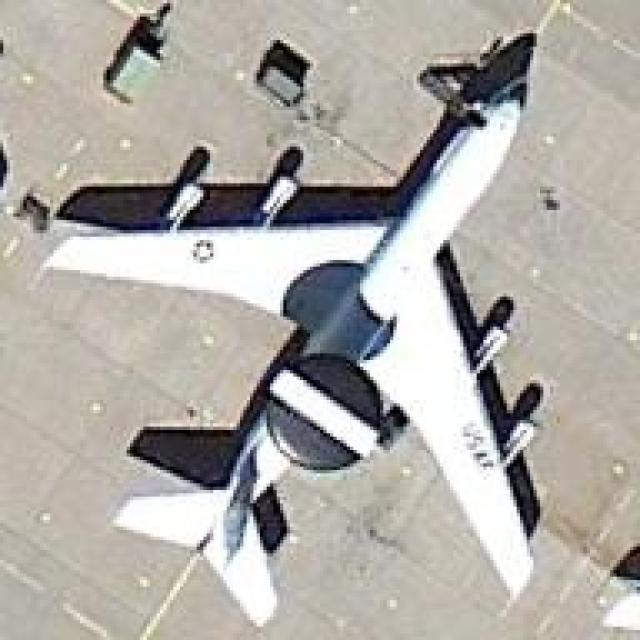E-3_TopDown: (30, 23, 553, 627)
